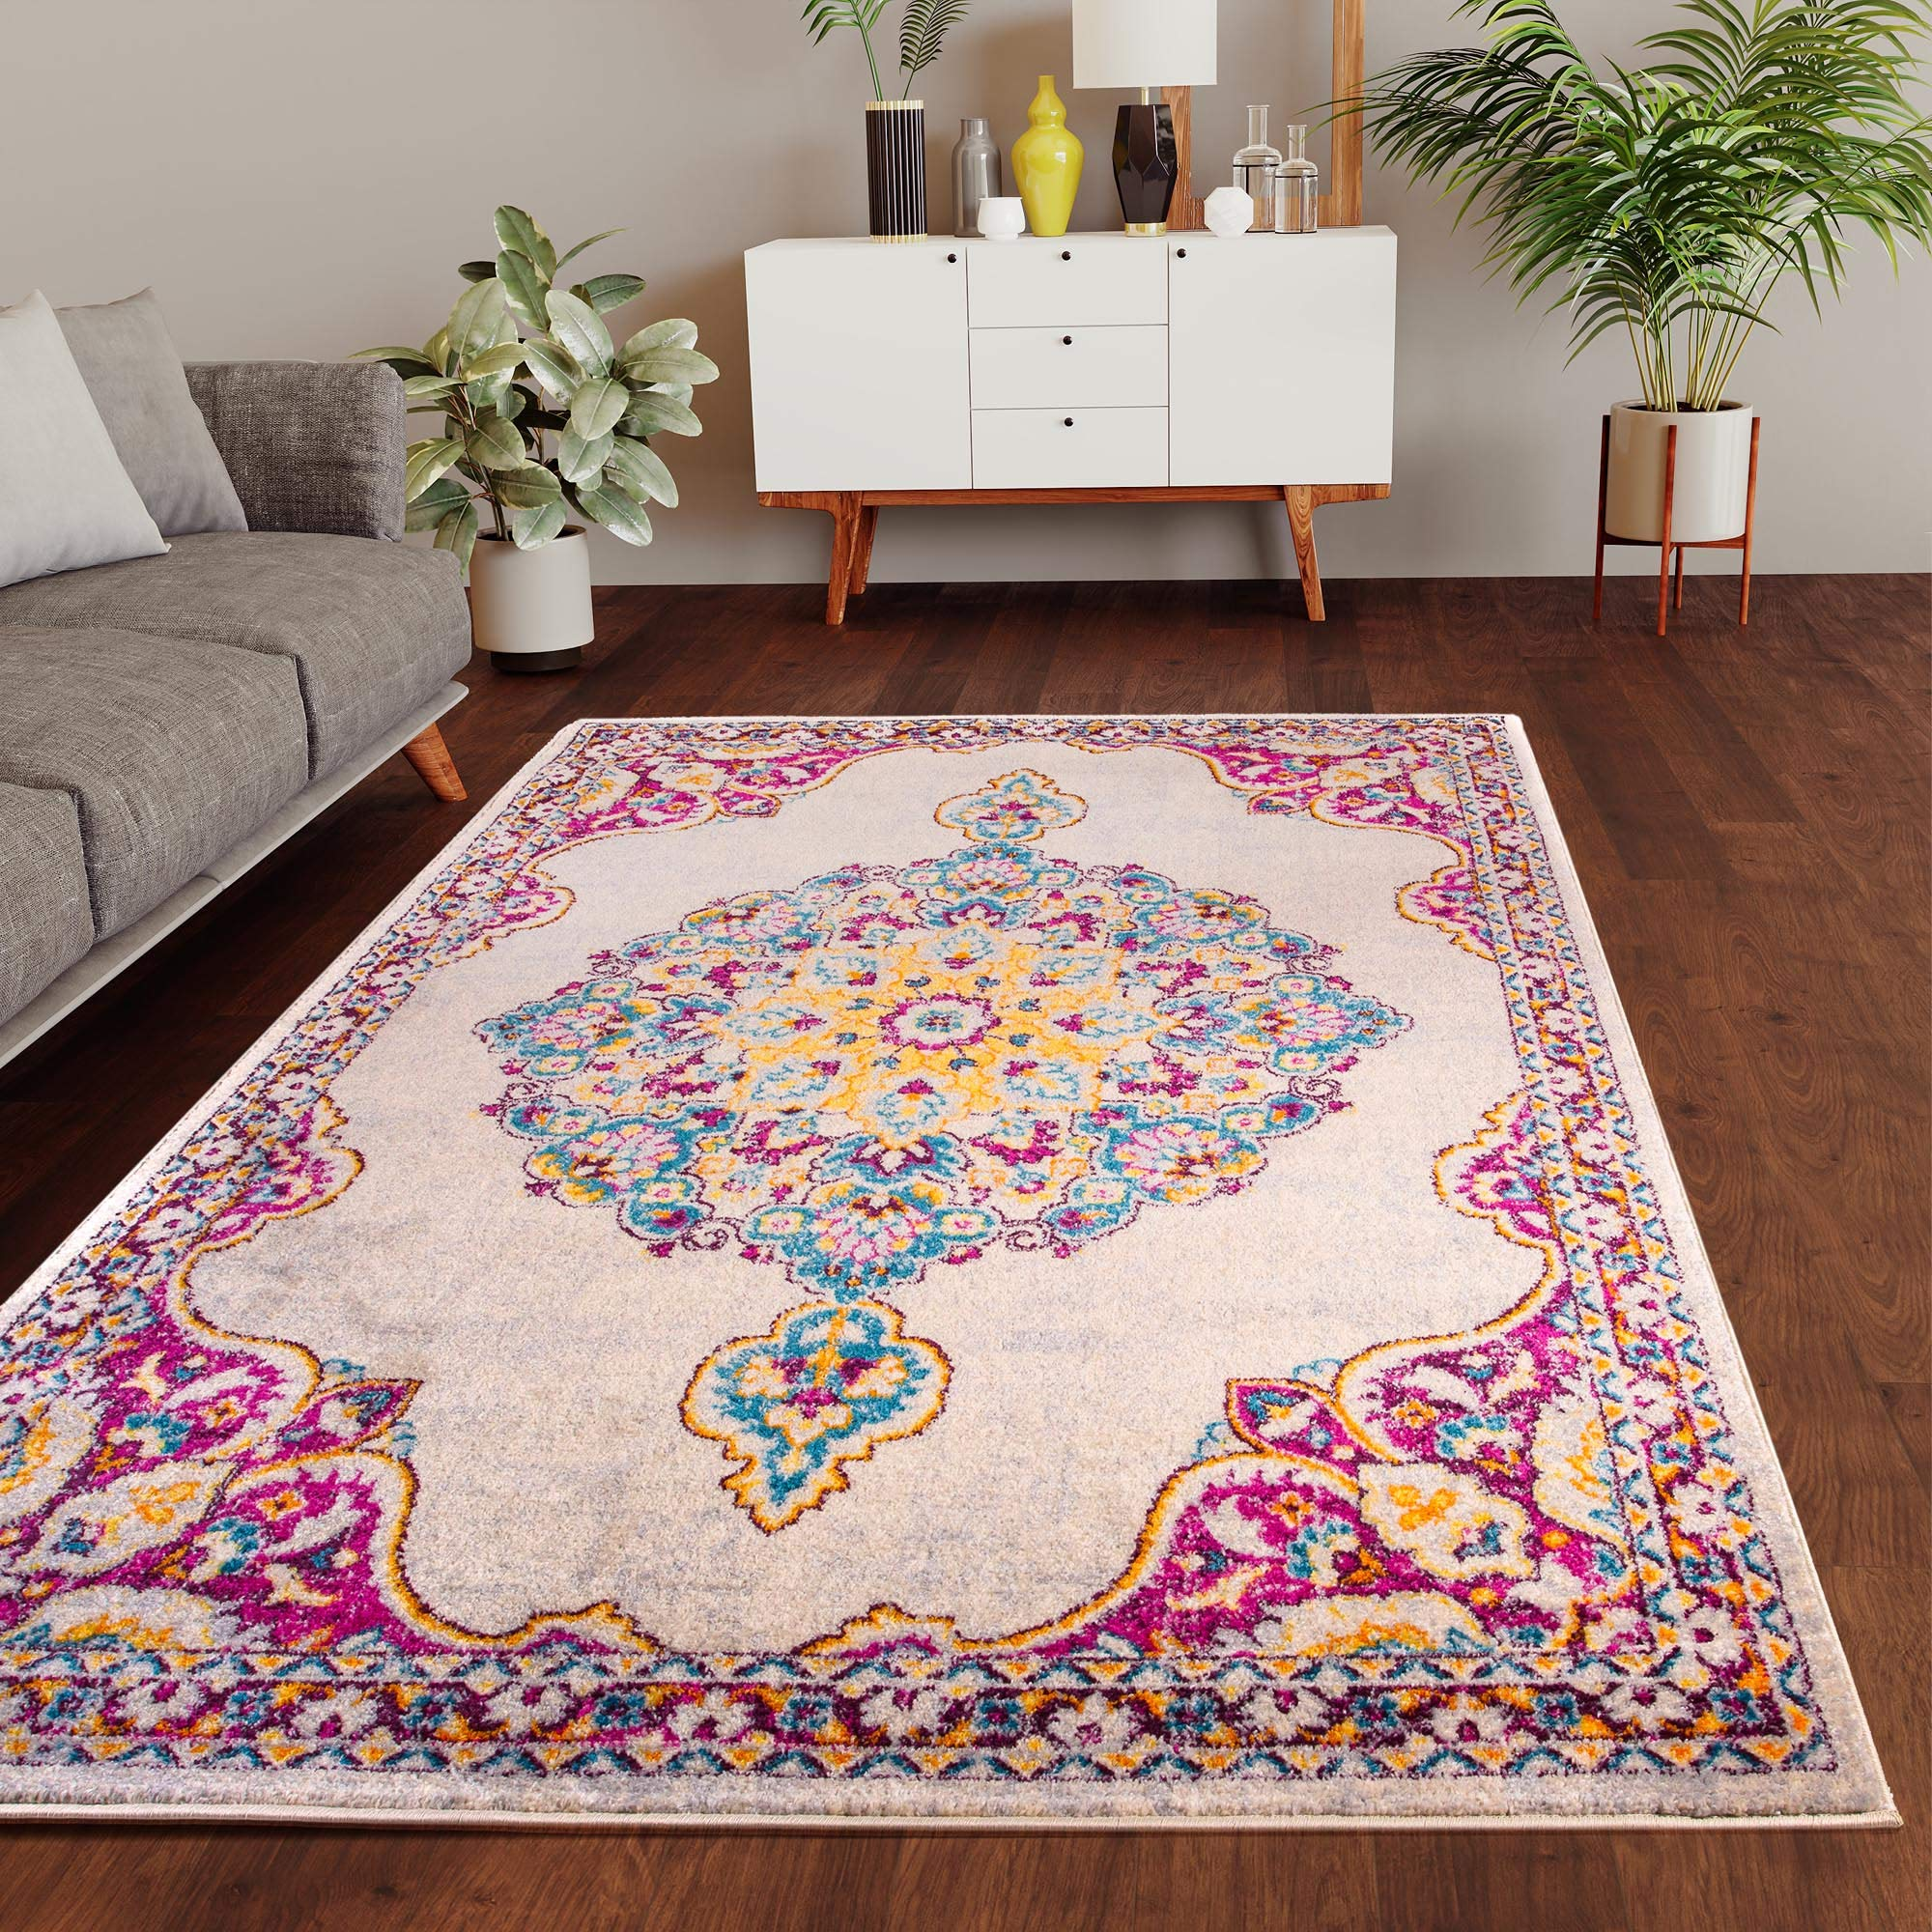hitam: (1111, 104, 1180, 219)
kuning: (1008, 76, 1083, 235)
putih: (727, 239, 1422, 497), (2, 285, 150, 557), (1583, 393, 1773, 564), (1051, 2, 1237, 101), (465, 538, 610, 658), (1205, 186, 1256, 230), (975, 198, 1026, 237)
